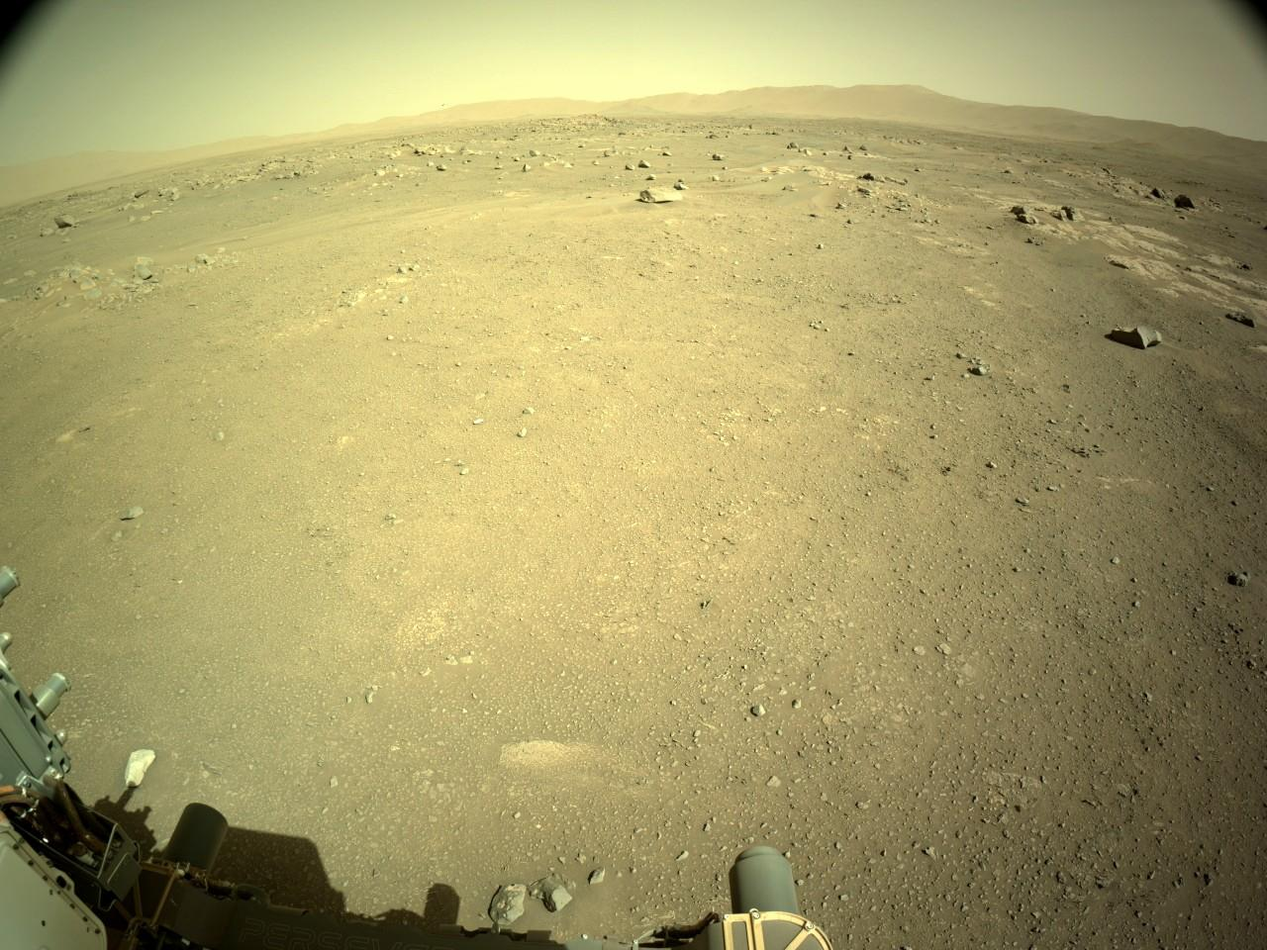bedrock: (975, 192, 1261, 354), (7, 276, 9, 295)
soil: (0, 109, 1265, 949)
